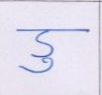u_matra: (19, 54, 56, 74)
